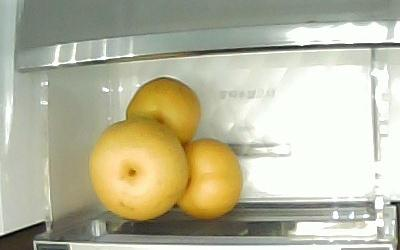pear: (88, 116, 189, 220), (175, 136, 243, 219), (124, 75, 201, 145)
